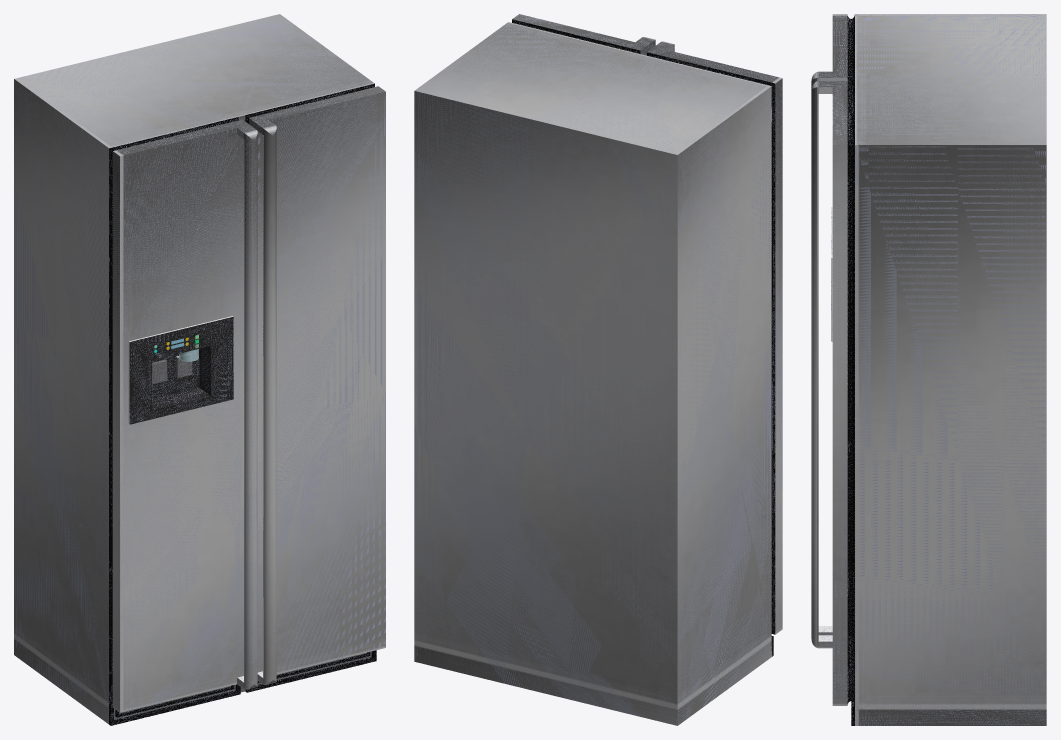
The model's file is fridge.dae.
The picture shows the model from 3 angles, left to right: view 1: azimuth 30°, elevation 25°; view 2: azimuth 150°, elevation 25°; view 3: azimuth 270°, elevation 25°; orthographic projection.
Parts seen in each view (by area): view 1: SketchUp (×8); view 2: SketchUp (×4); view 3: SketchUp (×6).
Part boxes in pixels (x1,y1,x2,y2): SketchUp (×8): (14, 14, 385, 725); SketchUp (×4): (414, 14, 782, 725); SketchUp (×6): (811, 14, 1046, 725).
Bounding box in the file's own units: 42 × 31.9 × 86.99.
Materials: 16 (2 with a texture image).
